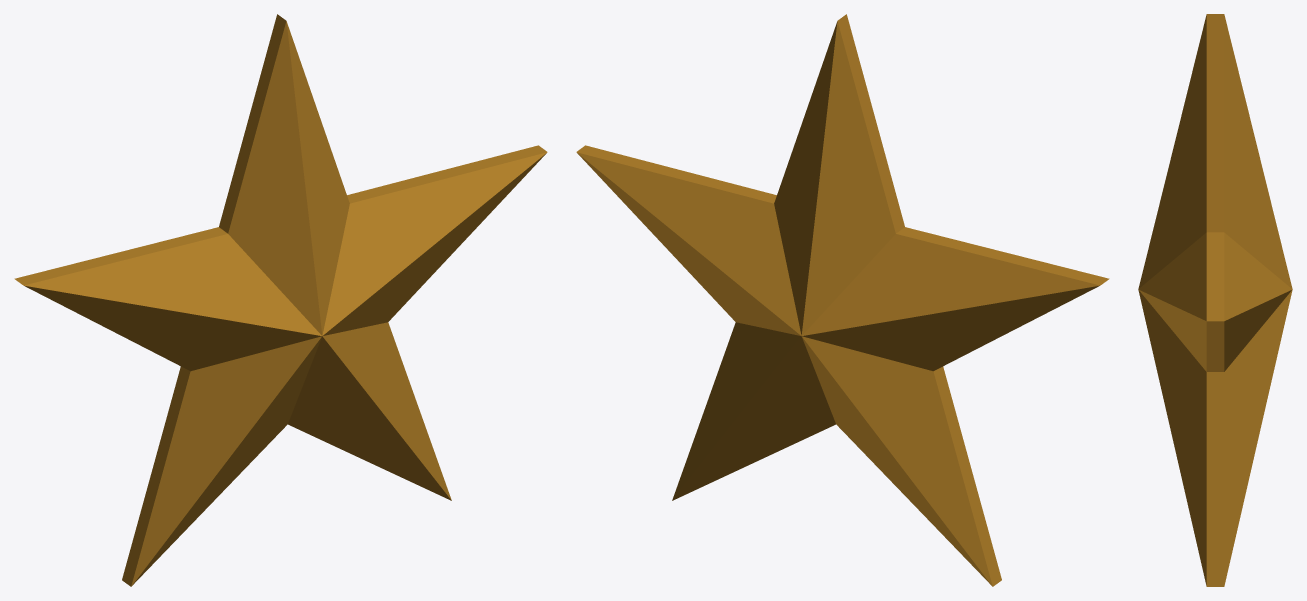
The model's file is 3dstar1.glb.
3 views of the same model, side by side, from view 1: azimuth 30°, elevation 25°; view 2: azimuth 150°, elevation 25°; view 3: azimuth 270°, elevation 25° (orthographic). The views are drawn at different scales.
Visible parts, largest first — view 1: Star; view 2: Star; view 3: Star.
Part boxes in pixels (x1=…): Star: x1=14, y1=14, x2=547, y2=586; Star: x1=576, y1=14, x2=1109, y2=586; Star: x1=1138, y1=14, x2=1292, y2=586.
Size of the model in its own units: 0.642 by 0.6181 by 0.1718.
